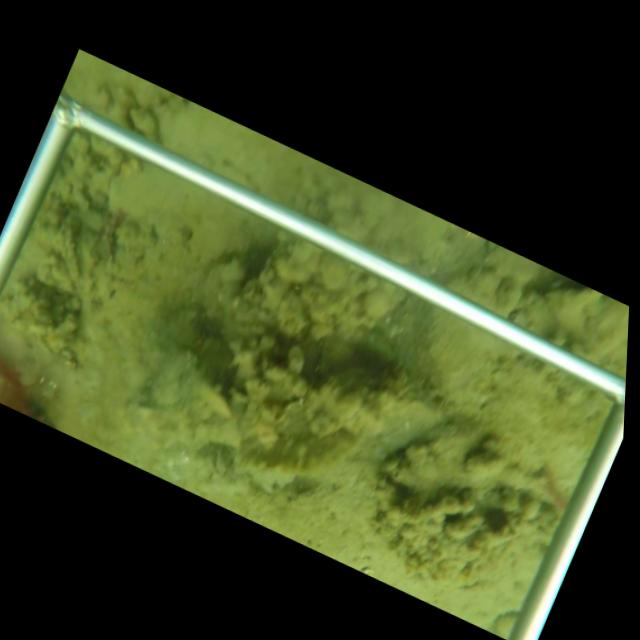Oyster-Closed: (59, 212, 83, 299)
